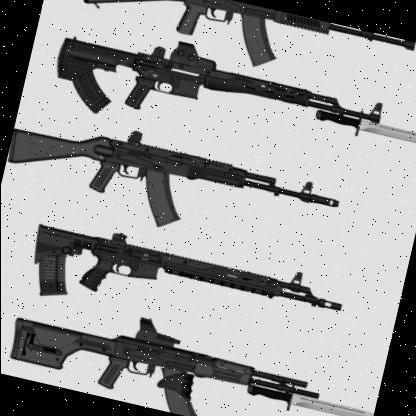rifle: (0, 94, 348, 261), (21, 207, 352, 363), (42, 21, 366, 173), (0, 297, 310, 416), (68, 0, 416, 104)
